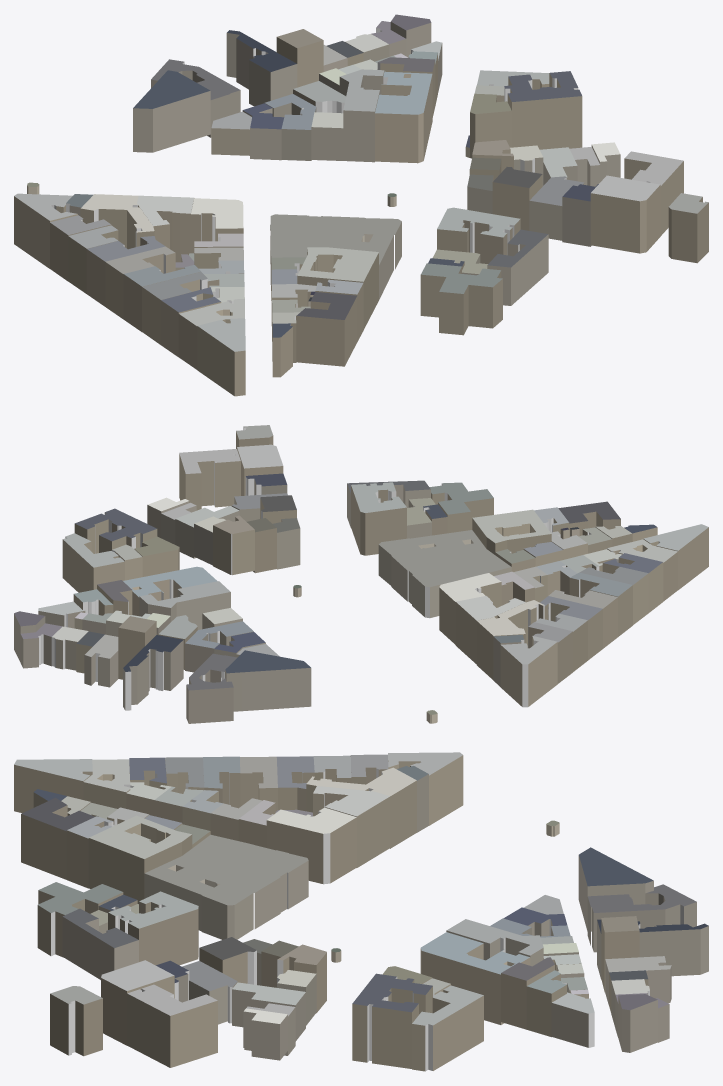
The picture shows the model from 3 angles, top to bottom: view 1: azimuth 30°, elevation 25°; view 2: azimuth 150°, elevation 25°; view 3: azimuth 270°, elevation 25°; orthographic projection. The views are drawn at different scales.
Parts seen in each view (by area): view 1: tuile; view 2: tuile; view 3: tuile.
Boxes of the visible parts, x1,y1,x2,y2 form: tuile: [14, 14, 708, 396]; tuile: [14, 425, 708, 723]; tuile: [14, 752, 708, 1071].
Bounding box in the file's own units: 273 × 31.37 × 292.
